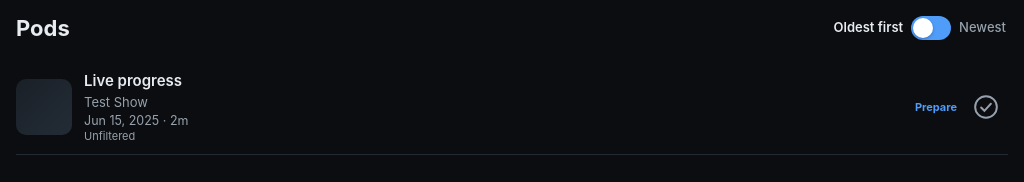
Scenario: RecentView › updates the Listen row progress from live playback
The width and height of the screenshot is (1024, 182).
Click the button "Live progress Test Show Jun 15, 2025 · 2m Unfiltered" at [44, 107], box [16,60,908,154]
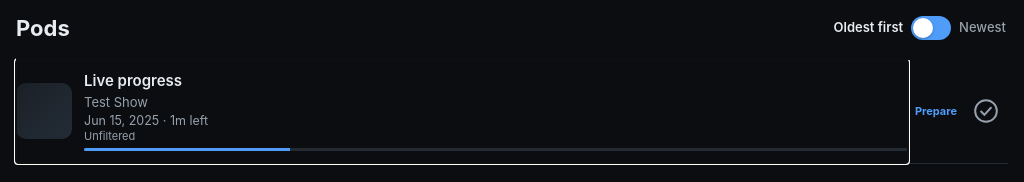
expect the list item "Live progress" shows "1m left": met, box [16,60,908,163]
